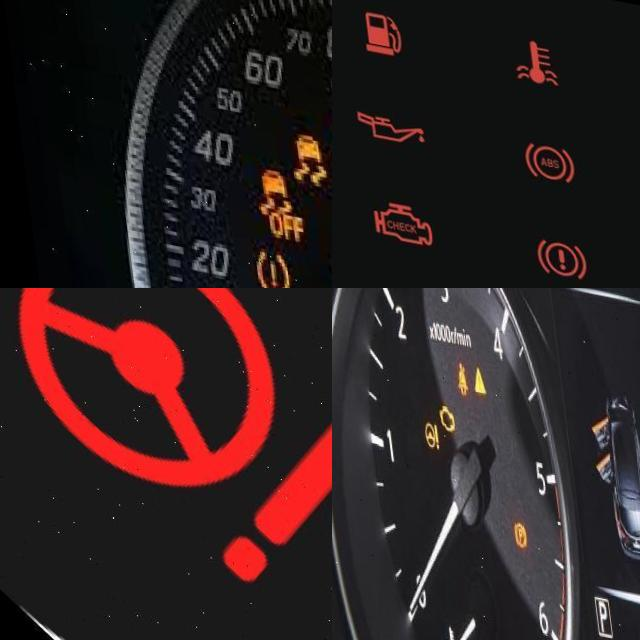Electronic Power Steering Warning: (413, 414, 439, 450)
High Engine Coolant Temperature: (502, 21, 558, 84)
Seat Belt: (449, 354, 467, 392)
